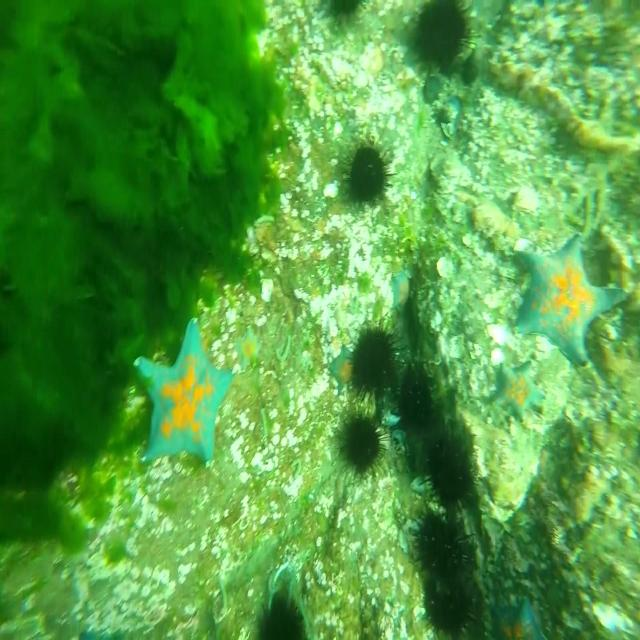echinus: (406, 0, 483, 73), (347, 316, 408, 406), (417, 430, 478, 517), (410, 505, 477, 584), (338, 133, 400, 209), (334, 406, 391, 482), (421, 578, 485, 640), (392, 358, 438, 440), (252, 586, 309, 640), (325, 0, 364, 23)
starfish: (510, 230, 630, 370), (131, 313, 235, 466), (494, 355, 546, 424), (510, 594, 549, 640), (327, 341, 358, 393), (234, 327, 263, 373), (391, 267, 411, 311)
